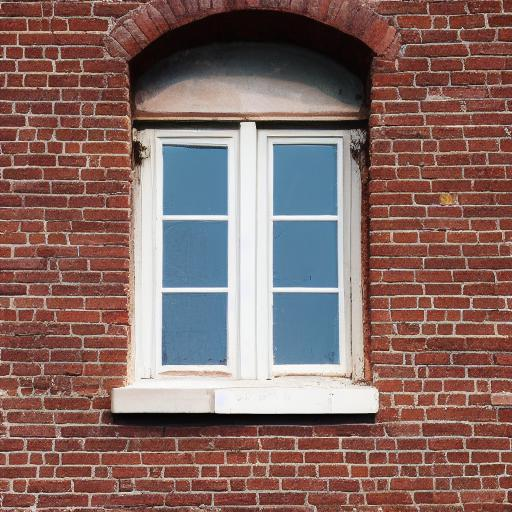Window: (98, 0, 383, 418)
